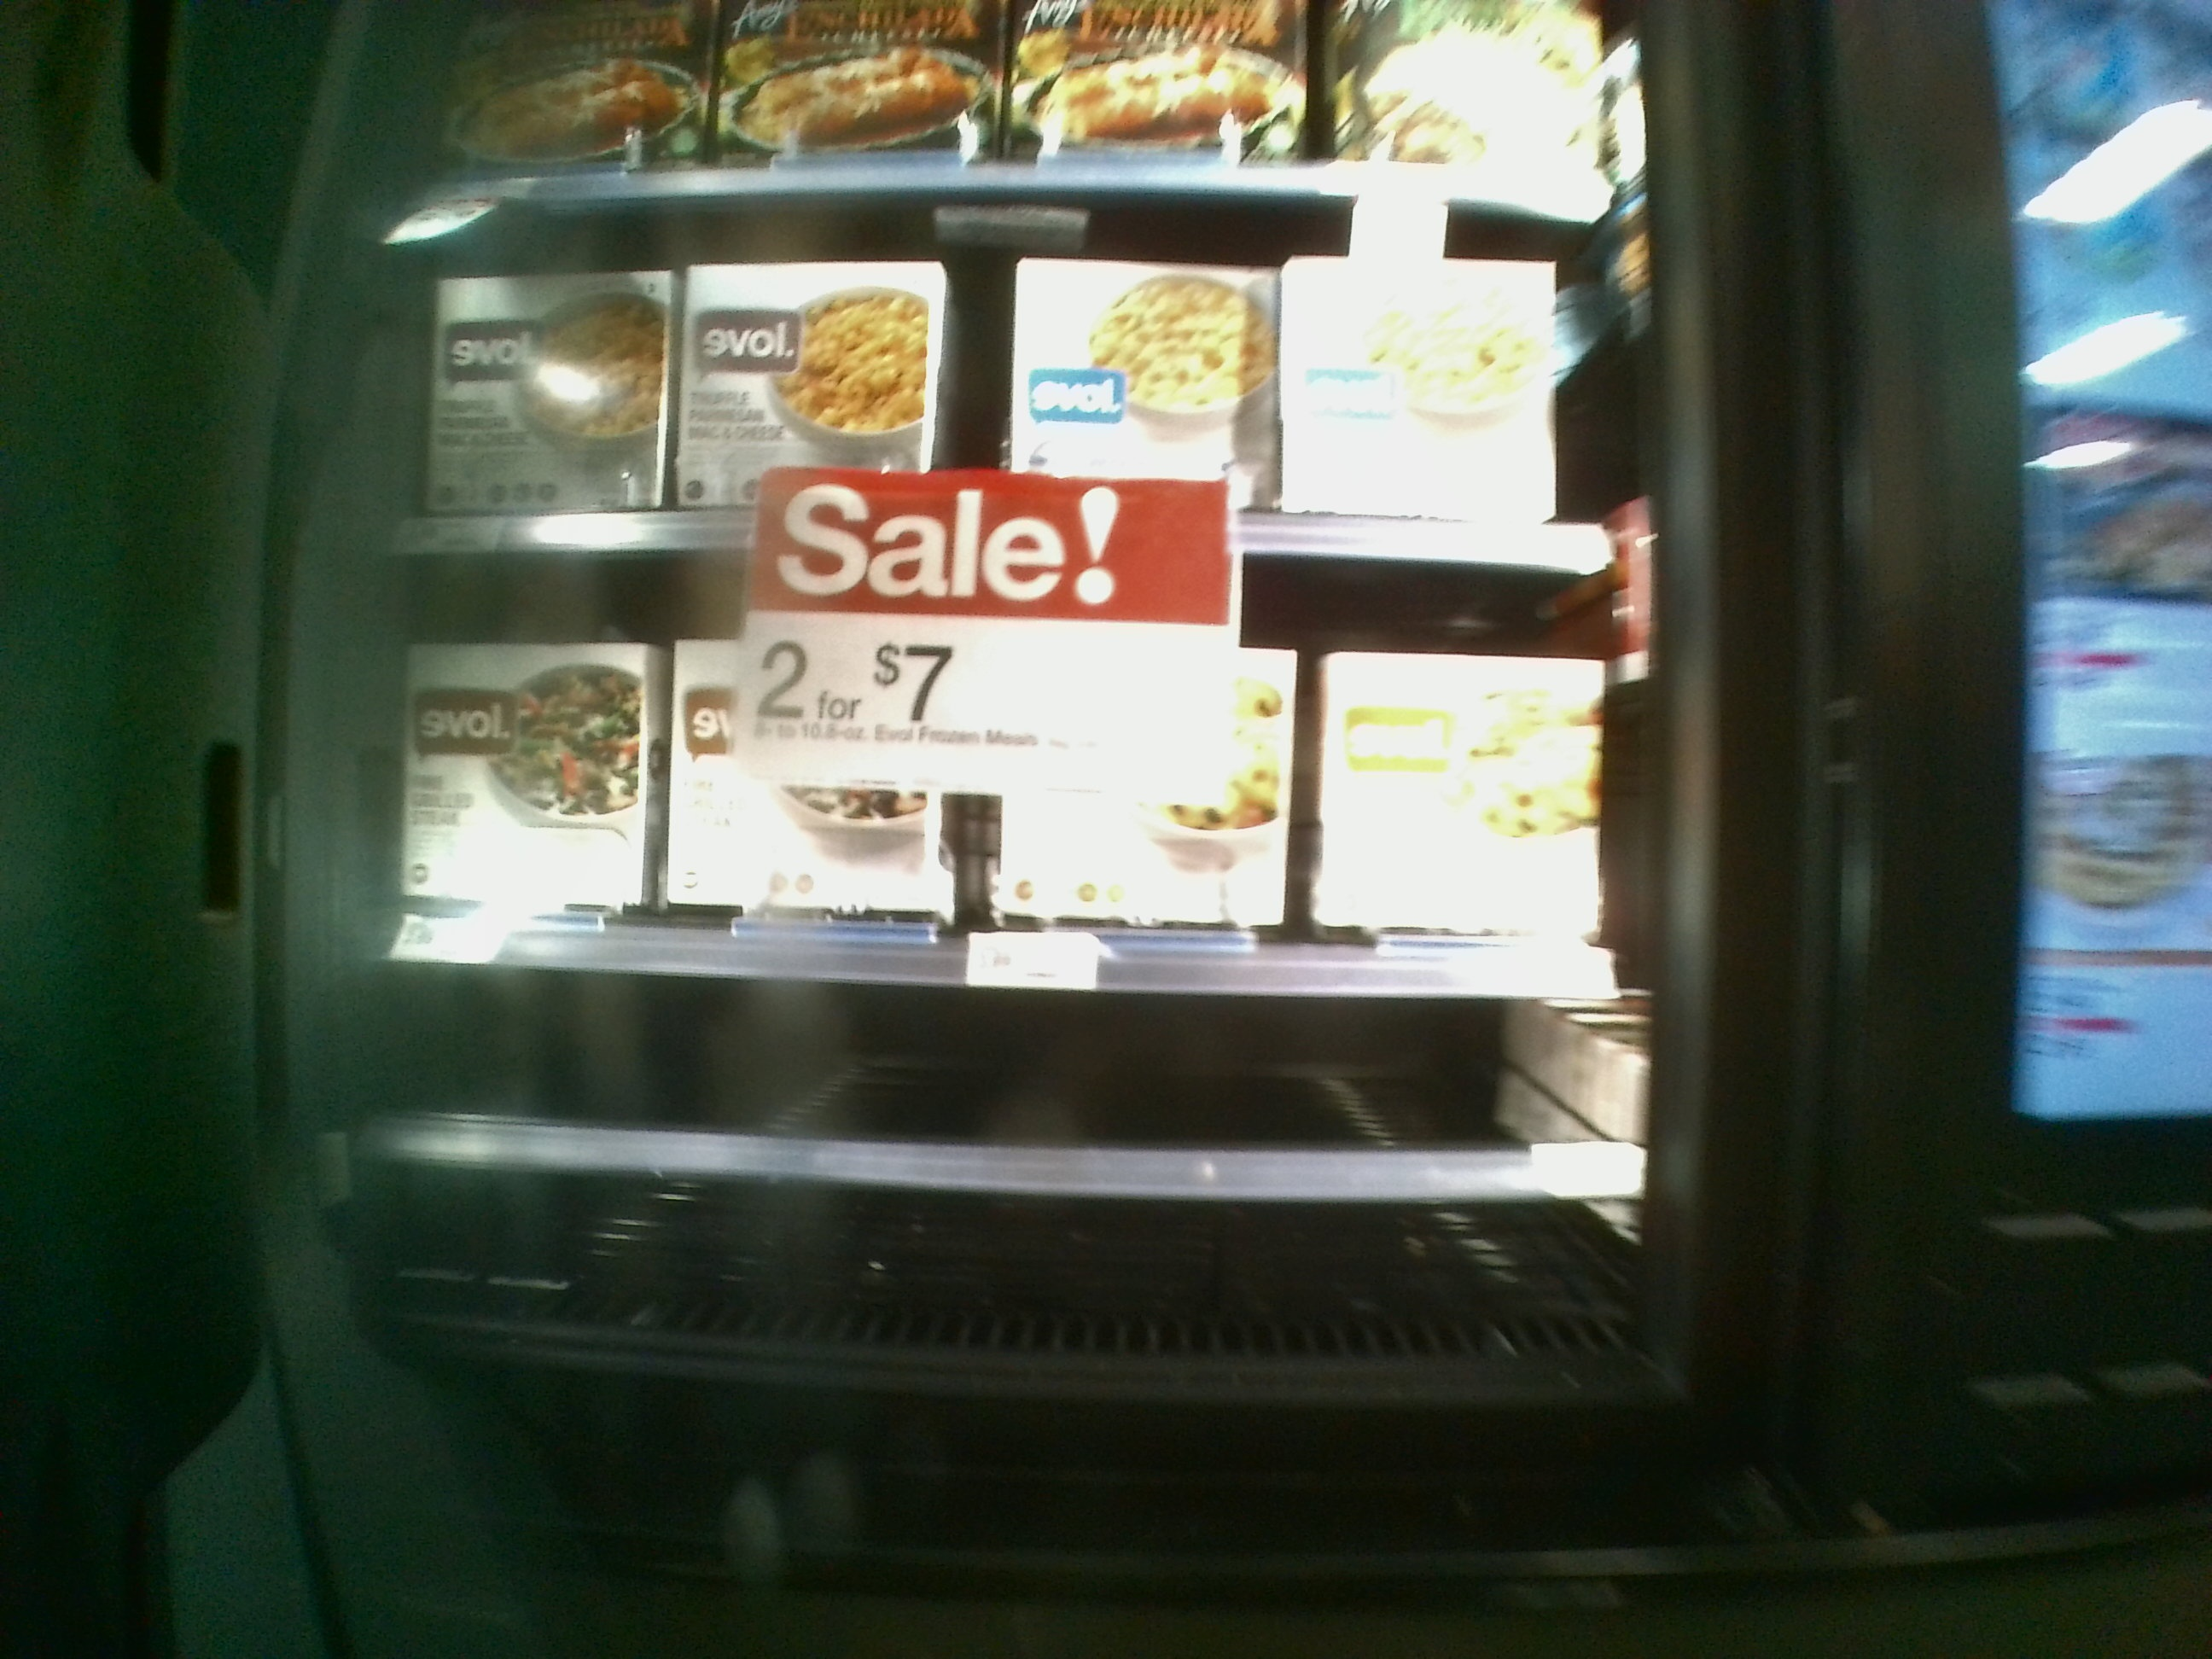shelf: (385, 565, 1646, 1011), (381, 220, 1637, 566), (383, 1011, 1648, 1338)
